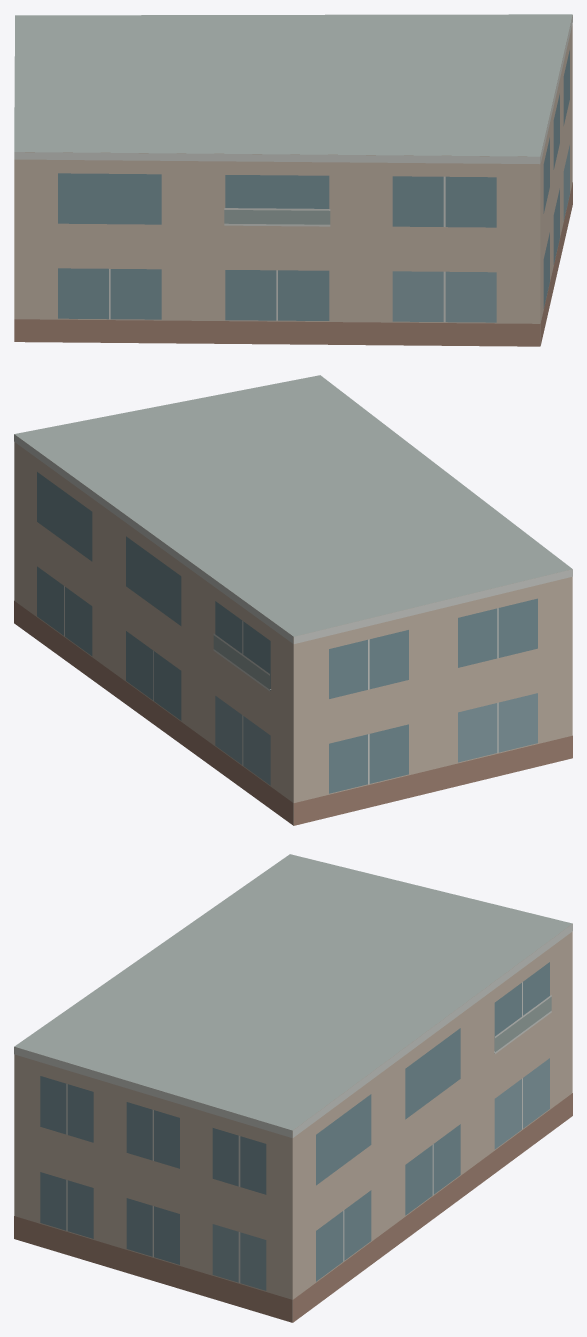
File: survey-upis-32892785.glb
The picture shows the model from 3 angles, top to bottom: view 1: azimuth 30°, elevation 25°; view 2: azimuth 150°, elevation 25°; view 3: azimuth 270°, elevation 25°; orthographic projection.
Parts seen in each view (by area): view 1: survey-upis-32892785.tmp; view 2: survey-upis-32892785.tmp; view 3: survey-upis-32892785.tmp.
Part boxes in pixels (x1,y1,x2,y2): survey-upis-32892785.tmp: (14,14,572,346); survey-upis-32892785.tmp: (14,375,572,825); survey-upis-32892785.tmp: (14,854,572,1322).
Size of the model in its own units: 18.82 by 6.1 by 16.07.
